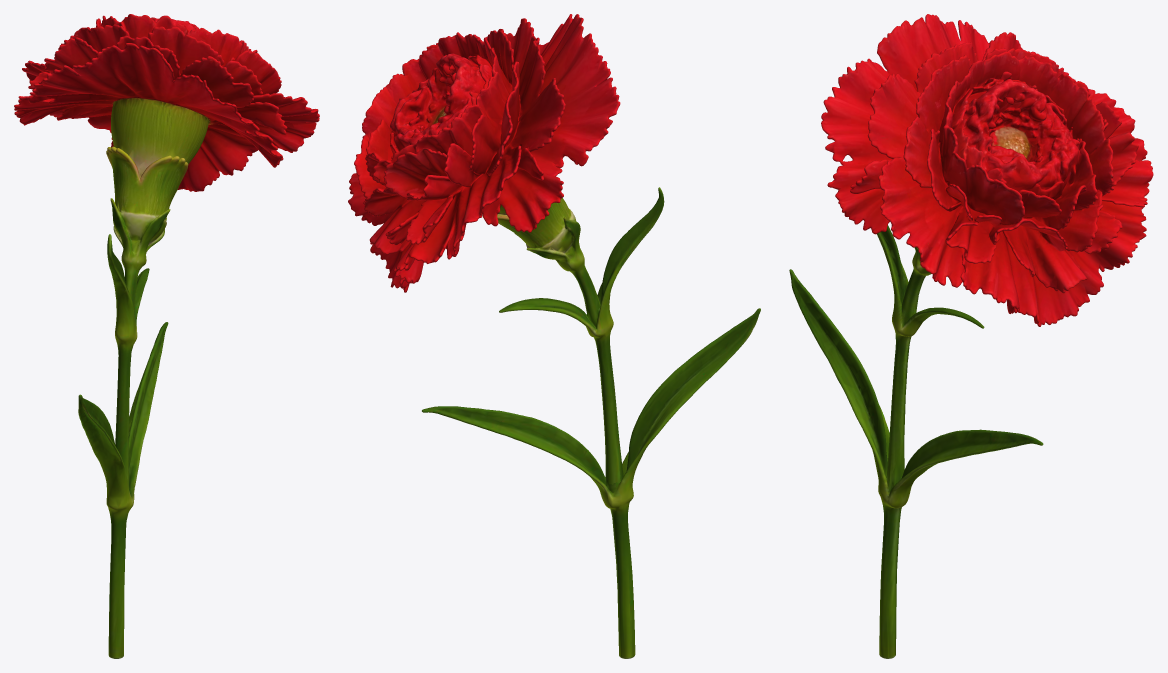
Rendered from Carniation Red.glb.
3 renders of one model, left to right at view 1: azimuth 30°, elevation 25°; view 2: azimuth 150°, elevation 25°; view 3: azimuth 270°, elevation 25°, orthographic. The views are drawn at different scales.
Visible parts, largest first — view 1: tripo_node_44e68970-f570-449d-8542-6d6b203238a5; view 2: tripo_node_44e68970-f570-449d-8542-6d6b203238a5; view 3: tripo_node_44e68970-f570-449d-8542-6d6b203238a5.
Boxes of the visible parts, left/top/right/bottom form: tripo_node_44e68970-f570-449d-8542-6d6b203238a5: left=14, top=14, right=319, bottom=658; tripo_node_44e68970-f570-449d-8542-6d6b203238a5: left=348, top=14, right=760, bottom=658; tripo_node_44e68970-f570-449d-8542-6d6b203238a5: left=789, top=14, right=1153, bottom=658.
Size of the model in its own units: 0.5204 by 1 by 0.5048.
1 material, 1 textured.
